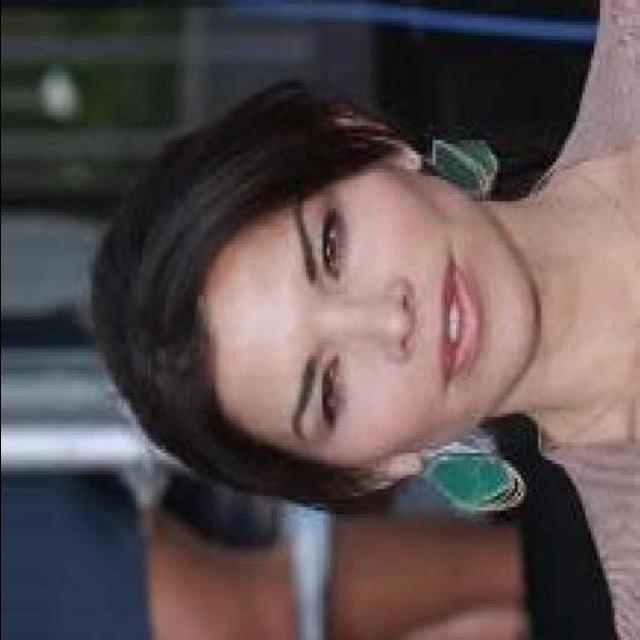bareface: (133, 153, 531, 486)
